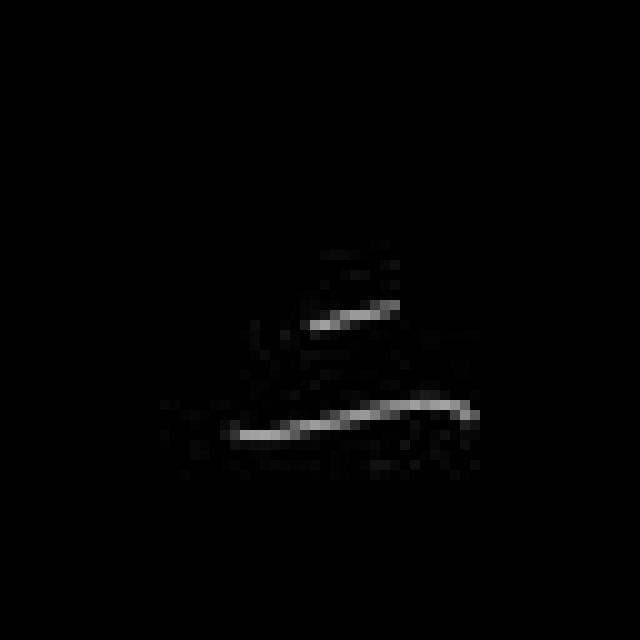2 -two-: (210, 278, 490, 452)
